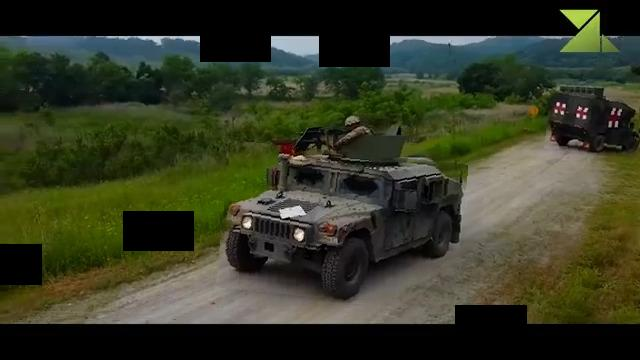MIL_HMMWV: (219, 147, 465, 307), (545, 93, 640, 156), (334, 115, 375, 148)
